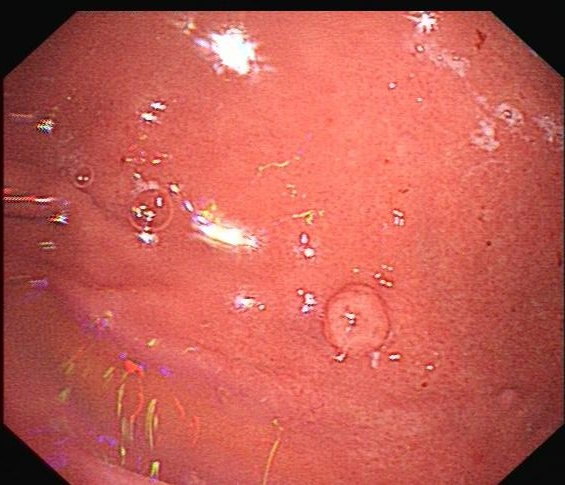Polyp: (318, 282, 397, 362)
